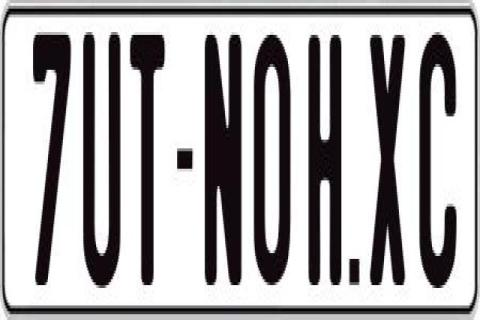0: (30, 35, 73, 294), (251, 27, 291, 280)
C: (416, 32, 460, 300)
H: (307, 32, 345, 294)
N: (202, 32, 242, 294)
T: (128, 29, 166, 288)
U: (81, 24, 121, 288)
X: (370, 29, 408, 297)
